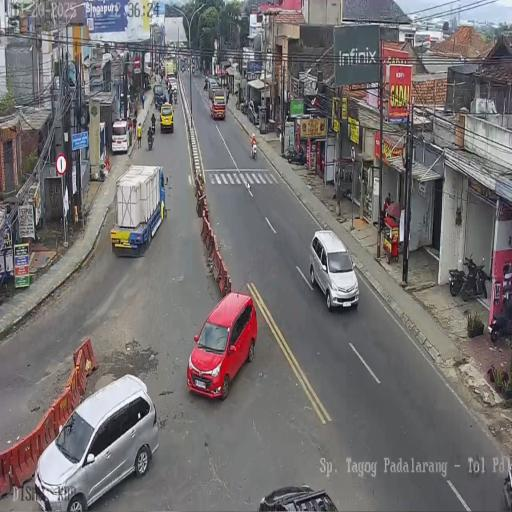car: (32, 374, 158, 508), (185, 291, 258, 398), (308, 230, 358, 311), (258, 484, 338, 512), (111, 118, 130, 154), (210, 88, 226, 120), (160, 104, 174, 134), (153, 84, 166, 110)
motorcycle: (460, 254, 490, 302), (488, 295, 512, 342), (285, 143, 306, 165), (240, 99, 250, 116), (147, 129, 154, 150), (251, 137, 257, 160), (276, 120, 282, 138), (225, 86, 230, 104), (173, 88, 177, 104), (141, 96, 145, 109), (181, 65, 185, 72), (192, 65, 194, 74)
truck: (112, 162, 167, 258), (165, 59, 176, 81), (144, 52, 152, 74)
